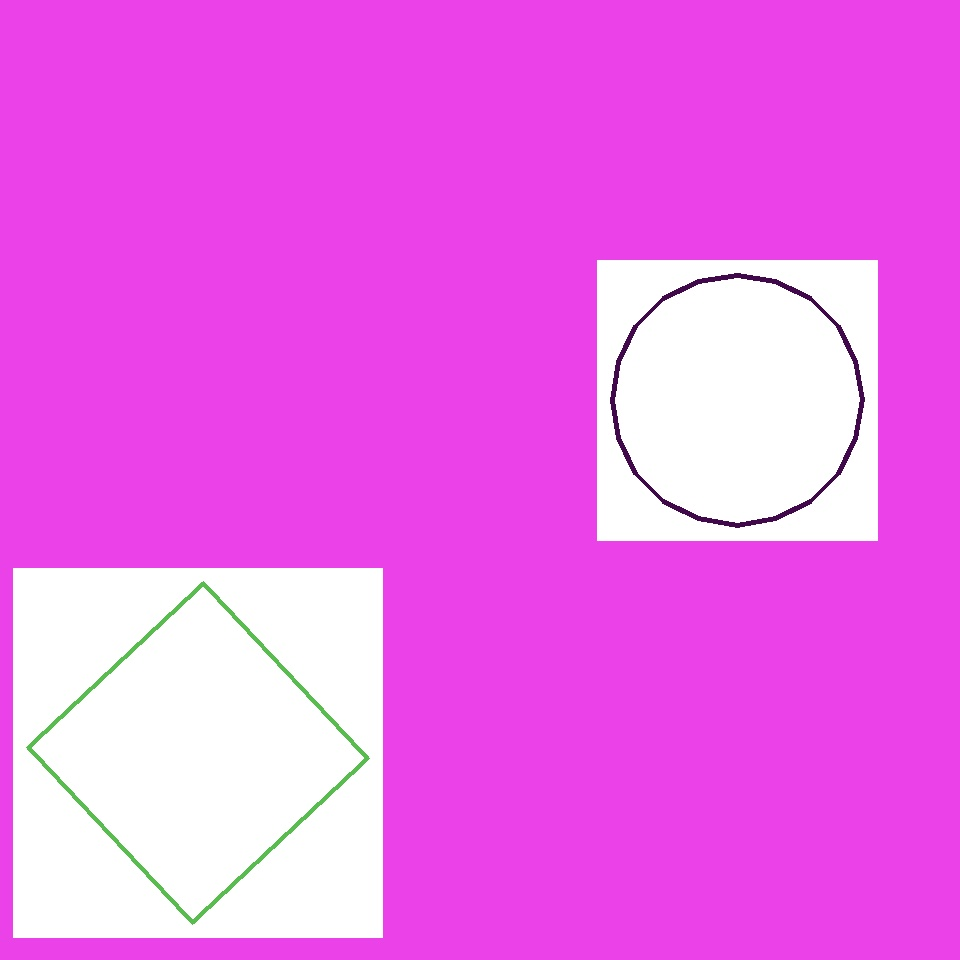circle: (42, 110, 286, 390), (299, 190, 489, 361), (646, 532, 802, 687), (395, 776, 541, 938)
square: (28, 584, 368, 922)
triangle: (612, 275, 862, 525), (452, 560, 666, 772)
